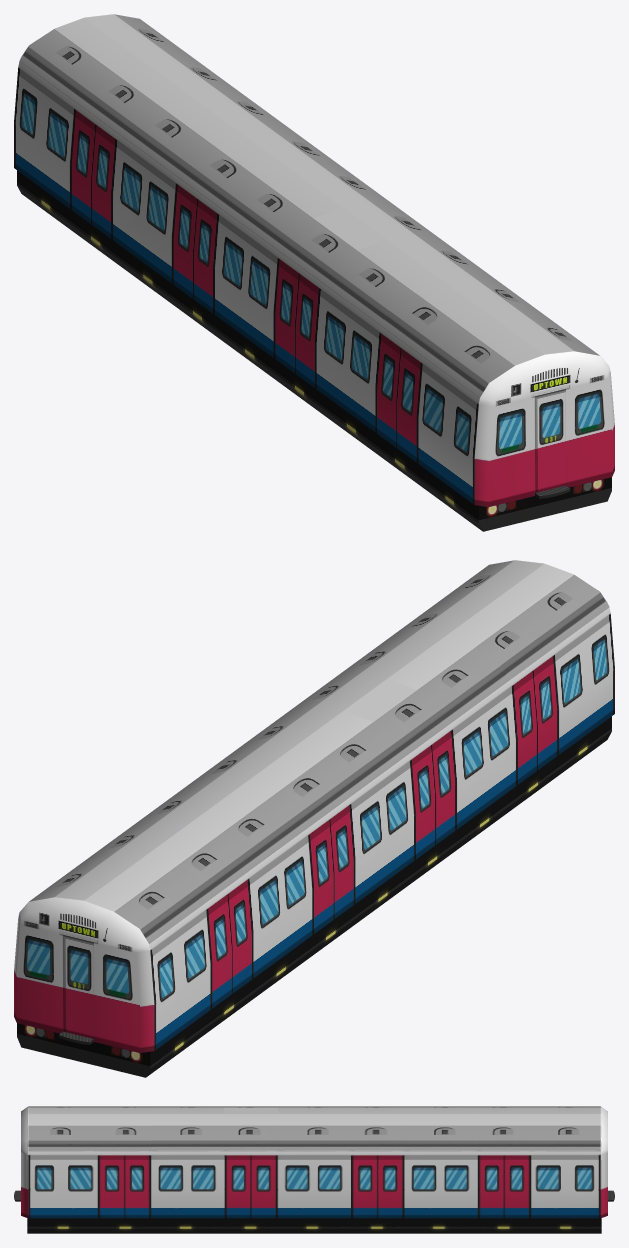
Rendered from city_train.glb.
The picture shows the model from 3 angles, top to bottom: view 1: azimuth 30°, elevation 25°; view 2: azimuth 150°, elevation 25°; view 3: azimuth 270°, elevation 25°; orthographic projection. The views are drawn at different scales.
Parts seen in each view (by area): view 1: train:polySurface1; view 2: train:polySurface1; view 3: train:polySurface1.
Boxes of the visible parts, <box> form: train:polySurface1: <box>14,14,614,531</box>; train:polySurface1: <box>14,560,614,1077</box>; train:polySurface1: <box>14,1106,614,1233</box>.
Bounding box in the file's own units: 3.5 × 3.84 × 20.82.
Materials: 1 (1 with a texture image).
